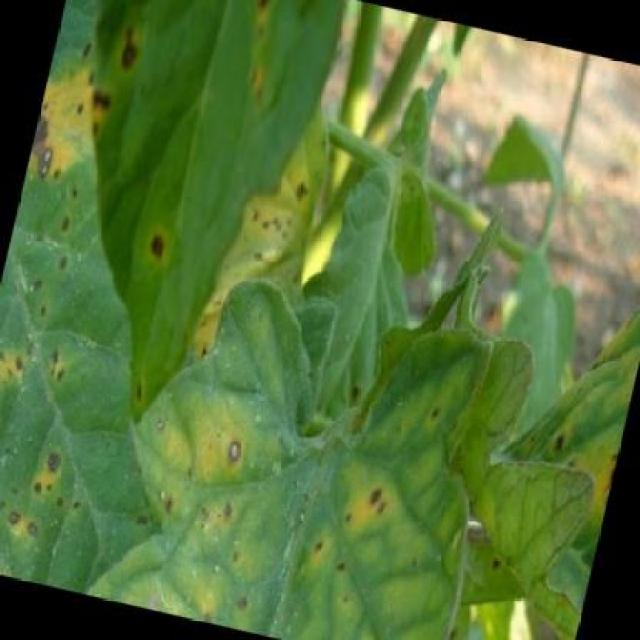Septoria leaf spot: (85, 257, 529, 640)
